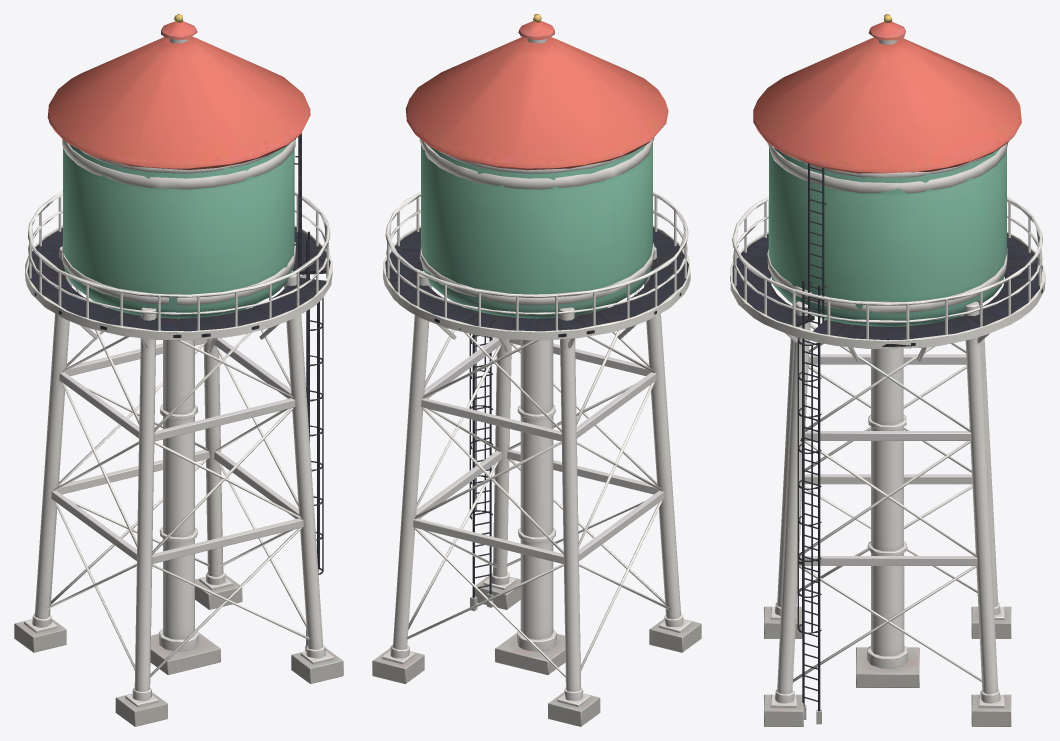
File: water-tower.glb
3 renders of one model, left to right at view 1: azimuth 30°, elevation 25°; view 2: azimuth 150°, elevation 25°; view 3: azimuth 270°, elevation 25°, orthographic. The views are drawn at different scales.
Parts seen in each view (by area): view 1: water-tower_body, water-tower_railing; view 2: water-tower_body, water-tower_railing; view 3: water-tower_body, water-tower_railing.
Boxes of the visible parts, x1,y1,x2,y2 form: water-tower_body: (14,14,343,726); water-tower_railing: (28,133,330,651); water-tower_body: (372,14,701,726); water-tower_railing: (385,192,688,611); water-tower_body: (730,14,1045,726); water-tower_railing: (732,163,1042,724).
Size of the model in its own units: 7.96 by 18.33 by 7.94.
2 materials, 2 textured.
